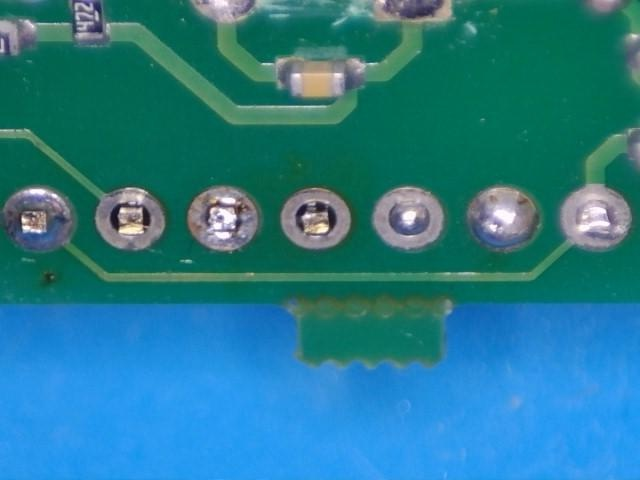pcb_defect: (189, 188, 260, 251), (375, 187, 447, 249), (468, 188, 539, 250)
